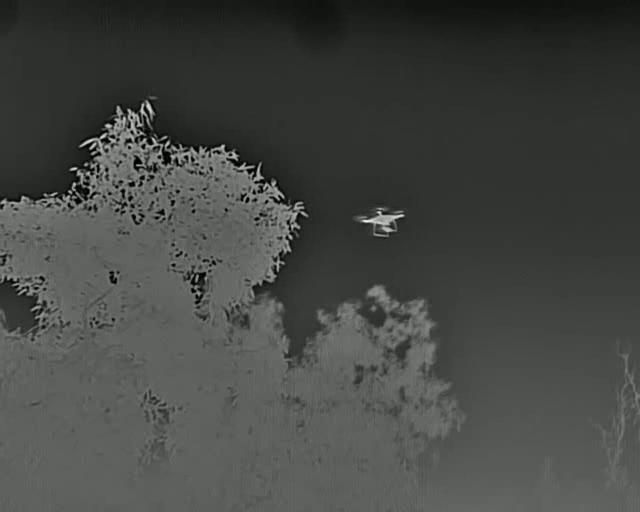DJI-Phantom: (350, 204, 409, 244)
